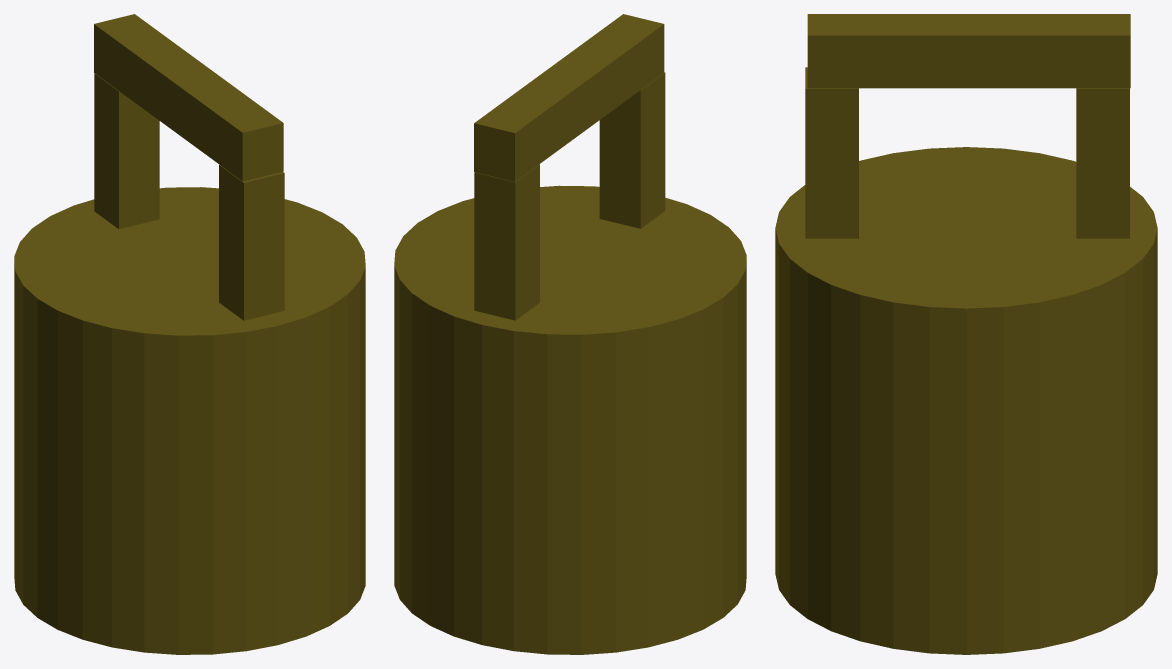
3 views of the same model, side by side, from view 1: azimuth 30°, elevation 25°; view 2: azimuth 150°, elevation 25°; view 3: azimuth 270°, elevation 25° (orthographic). The views are drawn at different scales.
Parts seen in each view (by area): view 1: well_well_Cube.001; view 2: well_well_Cube.001; view 3: well_well_Cube.001.
Part boxes in pixels (x1,y1,x2,y2): well_well_Cube.001: (14,14,365,654); well_well_Cube.001: (394,14,746,654); well_well_Cube.001: (775,14,1157,654).
Bounding box in the file's own units: 0.2154 × 0.3416 × 0.2154.
